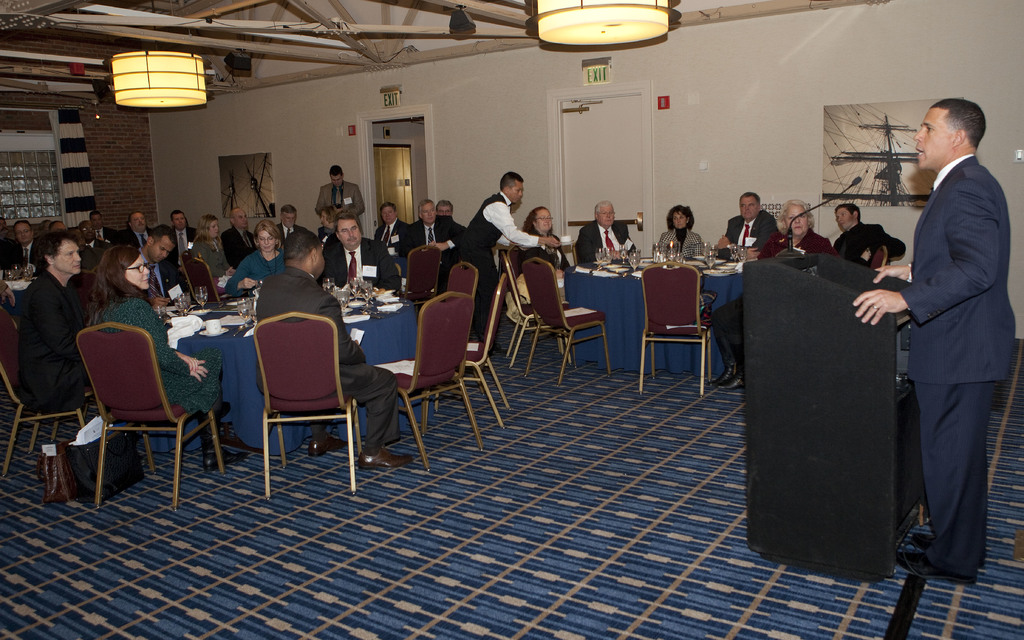Chair: (0, 239, 895, 508), (246, 291, 354, 500)
